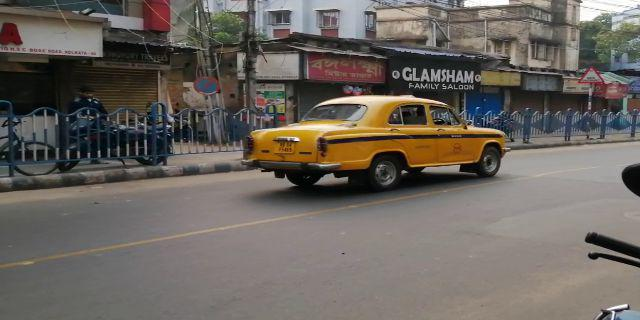Car: (248, 95, 504, 189)
